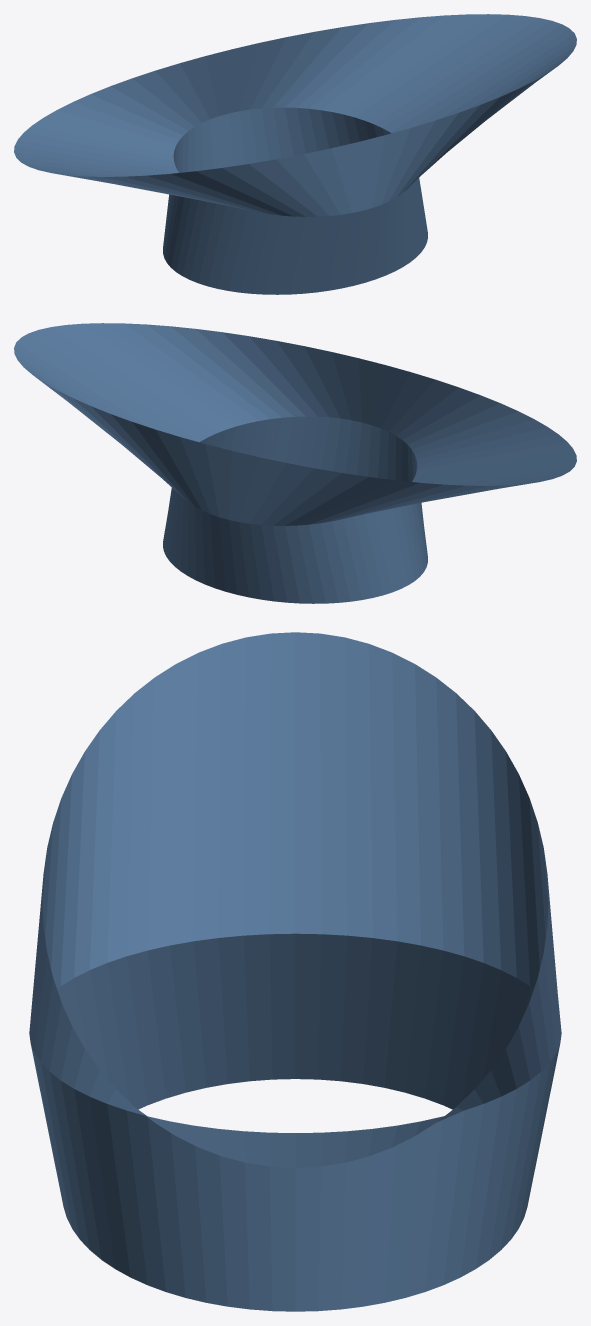
File: sav4-mini-denim.glb
3 views of the same model, one above another, from view 1: azimuth 30°, elevation 25°; view 2: azimuth 150°, elevation 25°; view 3: azimuth 270°, elevation 25° (orthographic). The views are drawn at different scales.
Parts seen in each view (by area): view 1: Fitted sav4-mini-denim.glb; view 2: Fitted sav4-mini-denim.glb; view 3: Fitted sav4-mini-denim.glb.
Boxes of the visible parts, x1=… form: Fitted sav4-mini-denim.glb: x1=14, y1=14, x2=576, y2=294; Fitted sav4-mini-denim.glb: x1=14, y1=323, x2=576, y2=603; Fitted sav4-mini-denim.glb: x1=29, y1=632, x2=561, y2=1311.
Bounding box in the file's own units: 1.01 × 0.2598 × 0.4245.
